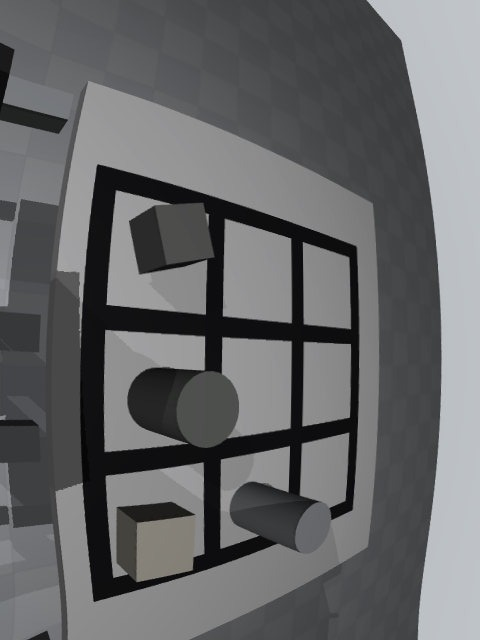can: (230, 482, 331, 554)
cube: (129, 203, 214, 275)
cylinder: (127, 368, 239, 448)
foam: (116, 502, 196, 582)
